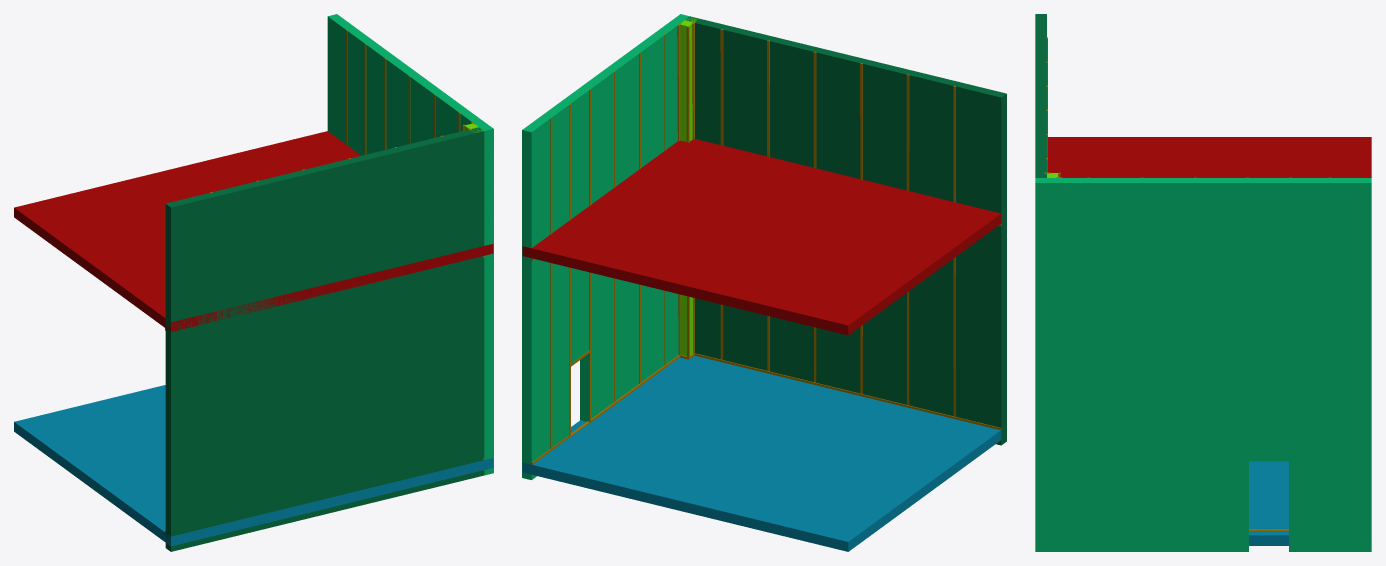
The model's file is HabitacionNueva.fbx.
The picture shows the model from 3 angles, left to right: view 1: azimuth 30°, elevation 25°; view 2: azimuth 150°, elevation 25°; view 3: azimuth 270°, elevation 25°; orthographic projection. The views are drawn at different scales.
Visible parts, largest first — view 1: Pared1, Suelo2, Suelo, Pared_Puerta5; view 2: Pared1, Suelo2, Suelo, Pared_Puerta5, Columna, Madera25, Madera5, Madera11, Madera9, Madera3, Madera6, Madera13 (+2 smaller); view 3: Pared_Puerta5, Suelo2, Suelo, Pared1.
Part boxes in pixels (left/top/right/bottom): Pared1: left=165, top=127, right=485, bottom=551; Suelo2: left=14, top=131, right=493, bottom=331; Suelo: left=14, top=385, right=493, bottom=546; Pared_Puerta5: left=327, top=14, right=493, bottom=475; Pared1: left=685, top=16, right=1006, bottom=445; Suelo2: left=522, top=139, right=1001, bottom=335; Suelo: left=522, top=355, right=1001, bottom=551; Pared_Puerta5: left=522, top=14, right=689, bottom=479; Columna: left=680, top=17, right=697, bottom=356; Madera25: left=694, top=353, right=1001, bottom=430; Madera5: left=550, top=117, right=552, bottom=448; Madera11: left=953, top=85, right=955, bottom=416; Madera9: left=906, top=74, right=909, bottom=405; Madera3: left=589, top=89, right=591, bottom=420; Madera6: left=720, top=29, right=723, bottom=359; Madera13: left=686, top=26, right=689, bottom=358; Pared_Puerta5: left=1035, top=178, right=1371, bottom=551; Suelo2: left=1048, top=137, right=1371, bottom=177; Suelo: left=1249, top=461, right=1288, bottom=545; Pared1: left=1035, top=14, right=1046, bottom=177.
Bounding box in the file's own units: 66.87 × 68.28 × 56.27.
